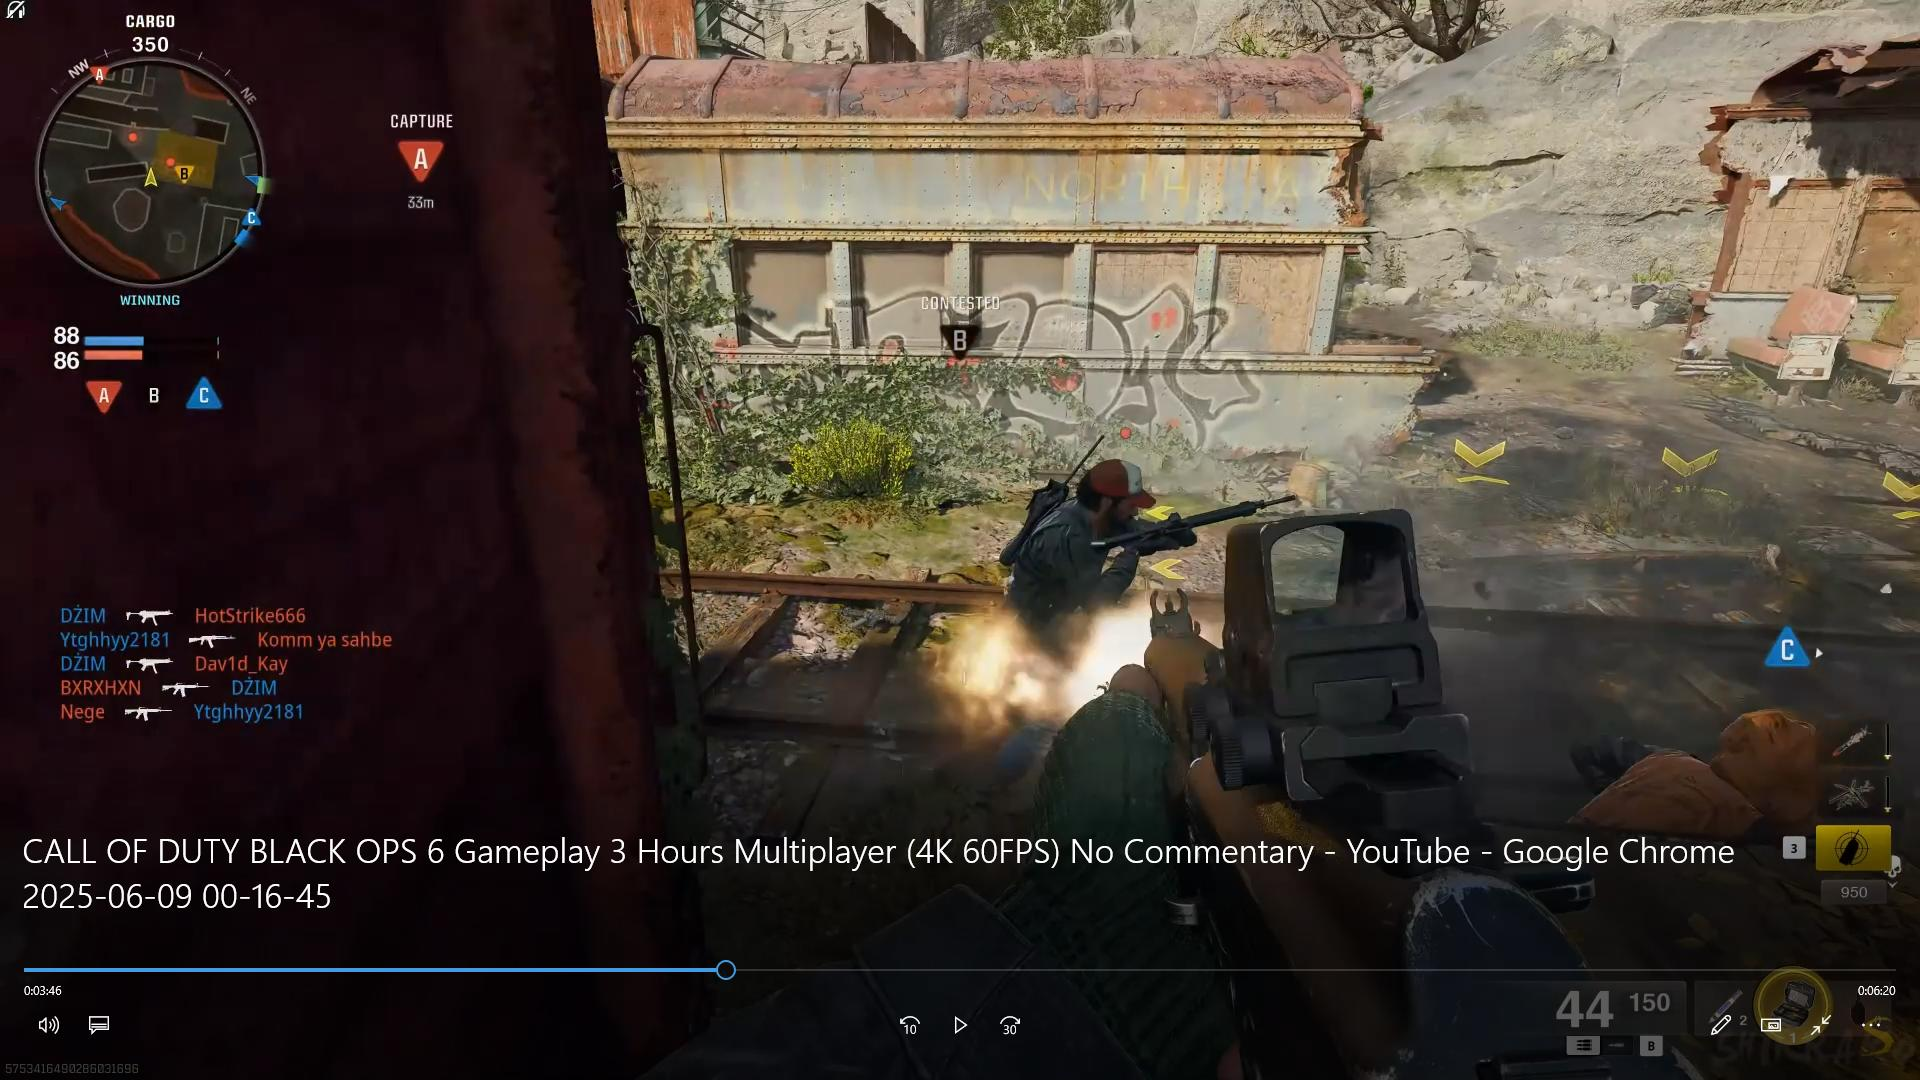Enemy: (976, 439, 1199, 596)
